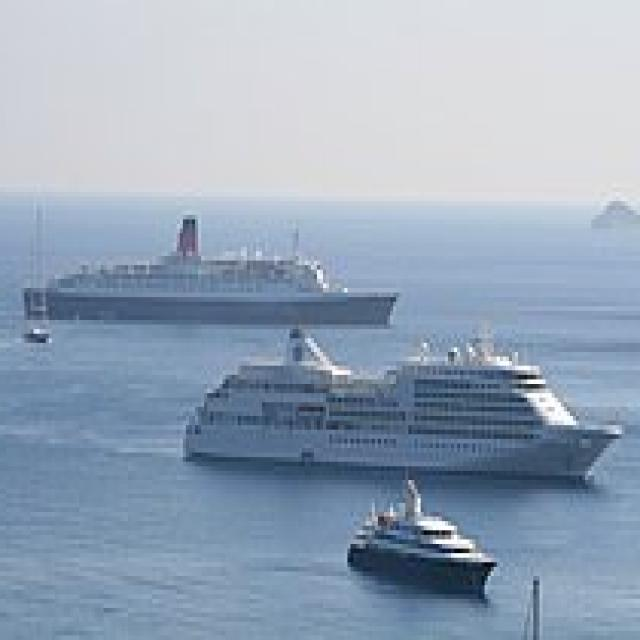Cruise: (186, 316, 628, 484), (24, 206, 406, 324)
